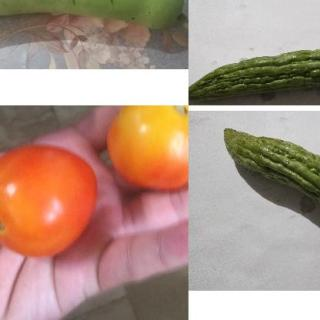Tomat: (1, 143, 103, 267), (106, 105, 188, 192)
